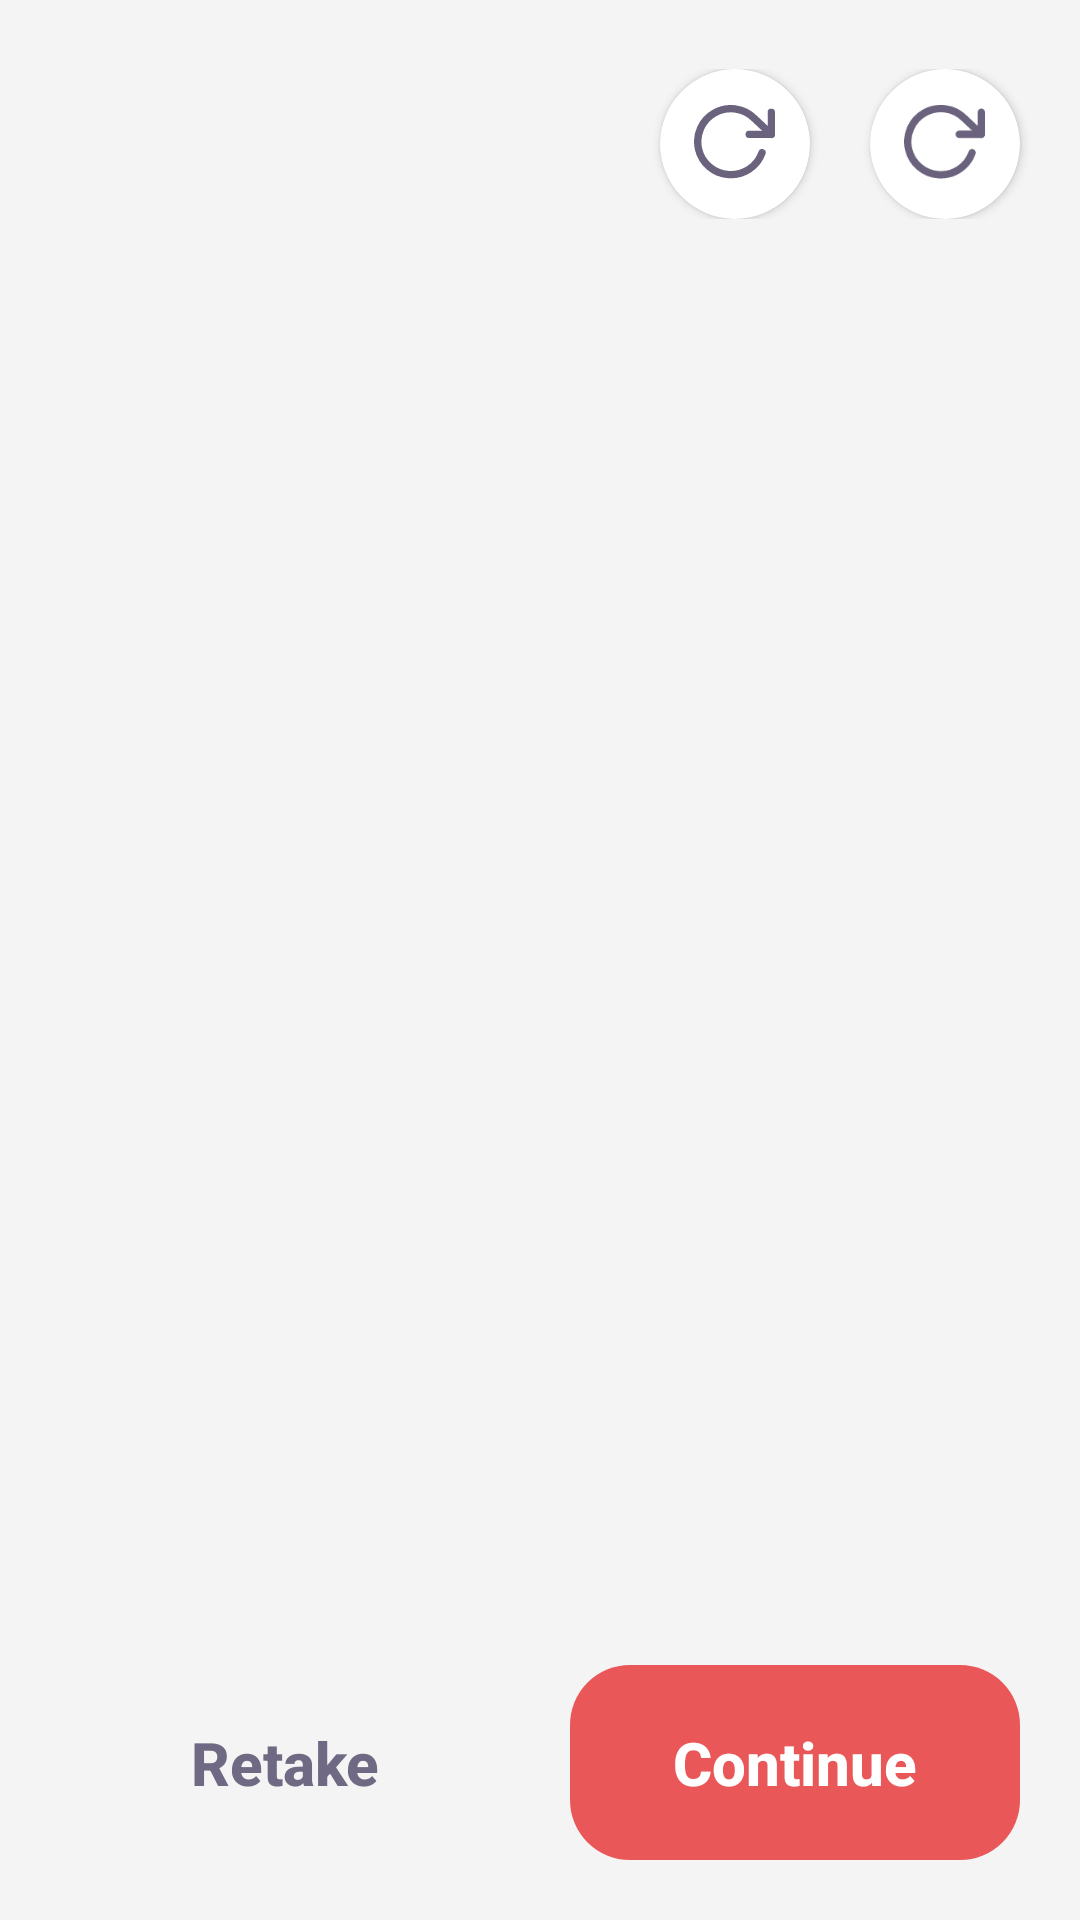

Point at icon controls on the screen. Image size 1080w x 1920h, points as (x=x, y=y).
rotate: (x=734, y=142), (x=944, y=142)
